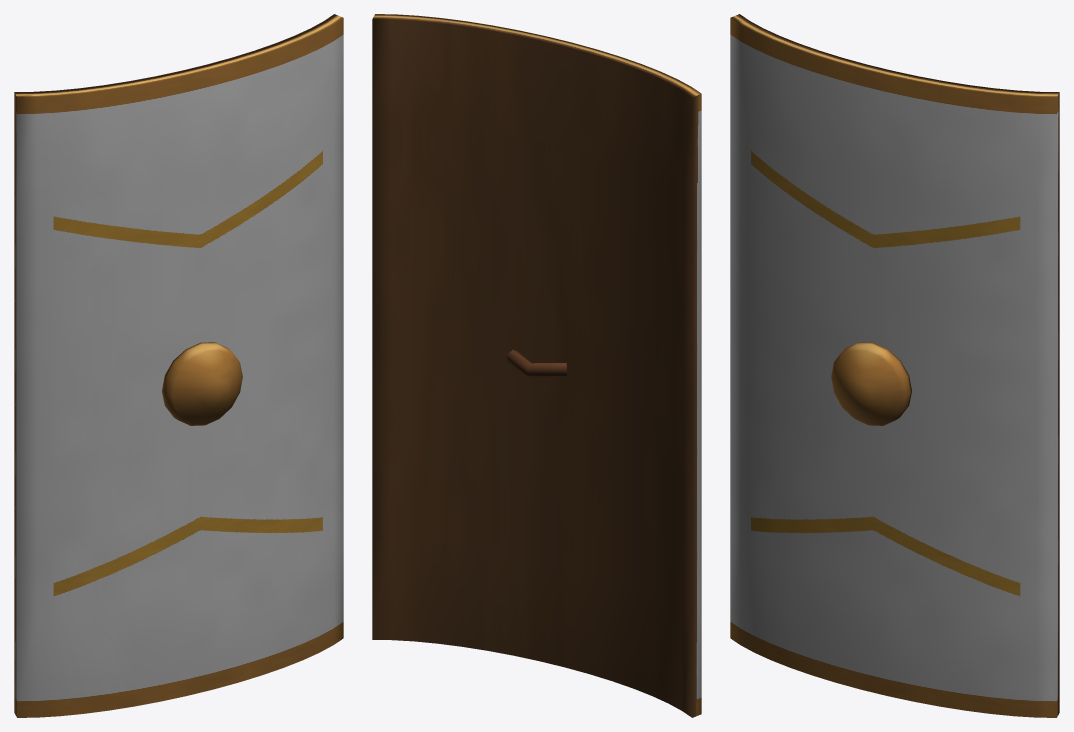
File: scutum.glb
3 renders of one model, left to right at view 1: azimuth 30°, elevation 25°; view 2: azimuth 150°, elevation 25°; view 3: azimuth 330°, elevation 25°, orthographic.
Visible parts, largest first — view 1: scutum; view 2: scutum; view 3: scutum.
Part boxes in pixels (bbox=[...]): scutum: bbox=[14, 14, 343, 717]; scutum: bbox=[372, 14, 701, 717]; scutum: bbox=[730, 14, 1059, 717].
Size of the model in its own units: 0.6059 by 1.1 by 0.1554.
Materials: 1 (1 with a texture image).
